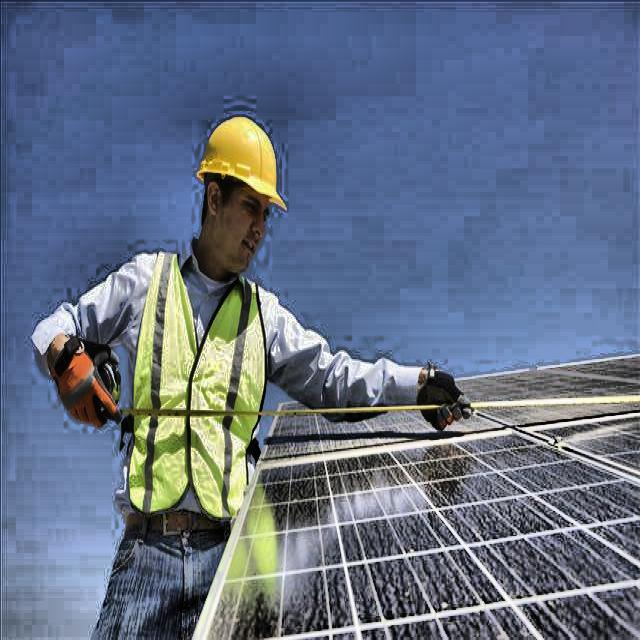helmet: (189, 95, 292, 282)
